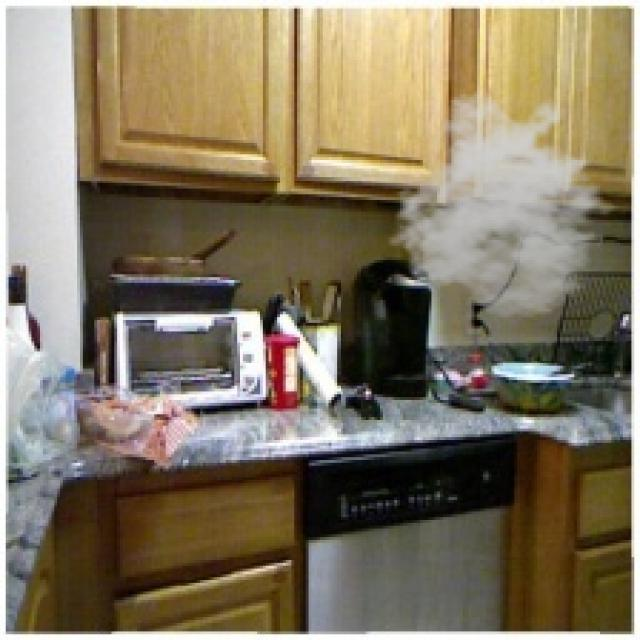smoke: (386, 89, 631, 320)
